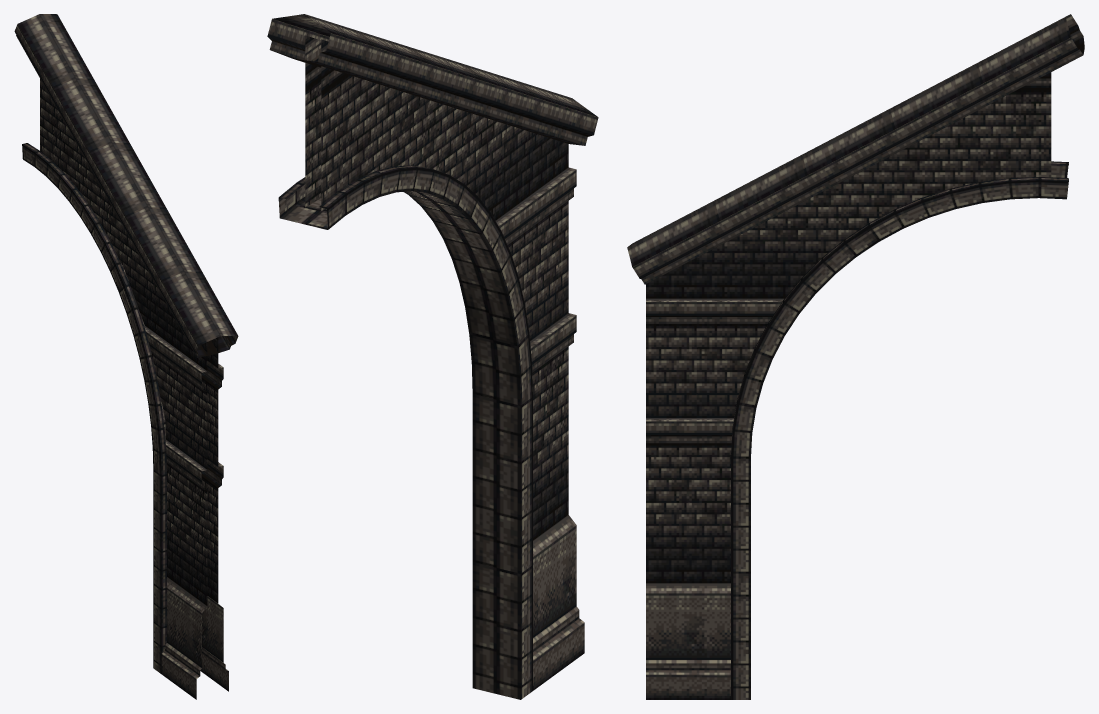
File: EnvBdgMD_Castle_LostSeed_A_Arch_A.FBX
3 renders of one model, left to right at view 1: azimuth 30°, elevation 25°; view 2: azimuth 150°, elevation 25°; view 3: azimuth 270°, elevation 25°, orthographic. The views are drawn at different scales.
Parts seen in each view (by area): view 1: EnvBdgMD_Castle_LostSeed_A_Arch_A; view 2: EnvBdgMD_Castle_LostSeed_A_Arch_A; view 3: EnvBdgMD_Castle_LostSeed_A_Arch_A.
Boxes of the visible parts, <box> form: EnvBdgMD_Castle_LostSeed_A_Arch_A: <box>14,14,238,699</box>; EnvBdgMD_Castle_LostSeed_A_Arch_A: <box>267,14,598,699</box>; EnvBdgMD_Castle_LostSeed_A_Arch_A: <box>627,14,1084,699</box>.
Size of the model in its own units: 110 by 1465 by 904.
